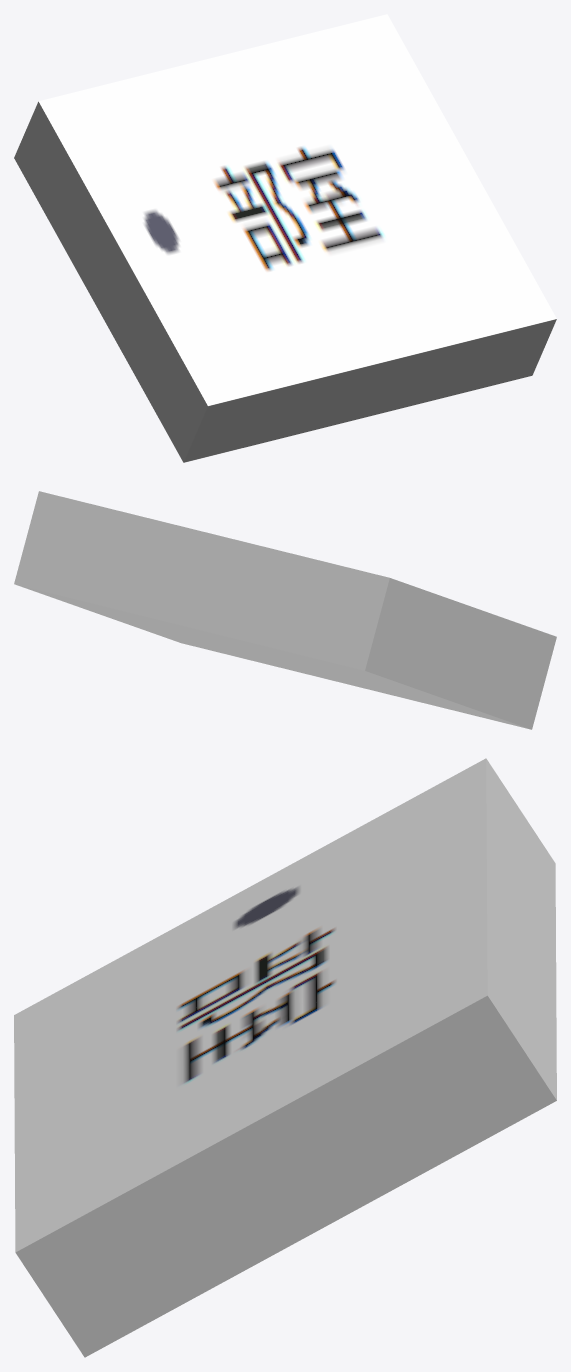
The model's file is busitu.glb.
3 views of the same model, one above another, from view 1: azimuth 30°, elevation 25°; view 2: azimuth 150°, elevation 25°; view 3: azimuth 270°, elevation 25° (orthographic). The views are drawn at different scales.
Parts seen in each view (by area): view 1: 立方体; view 2: 立方体; view 3: 立方体.
Boxes of the visible parts, x1,y1,x2,y2 form: 立方体: (14, 14, 556, 462); 立方体: (14, 491, 556, 729); 立方体: (14, 758, 556, 1357).
Size of the model in its own units: 0.5038 by 0.3546 by 0.4803.
Materials: 2 (1 with a texture image).
